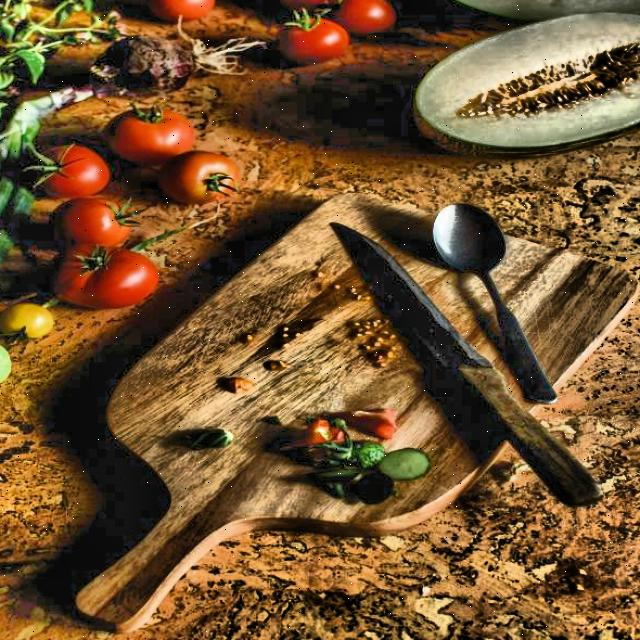knife: (330, 213, 629, 514)
